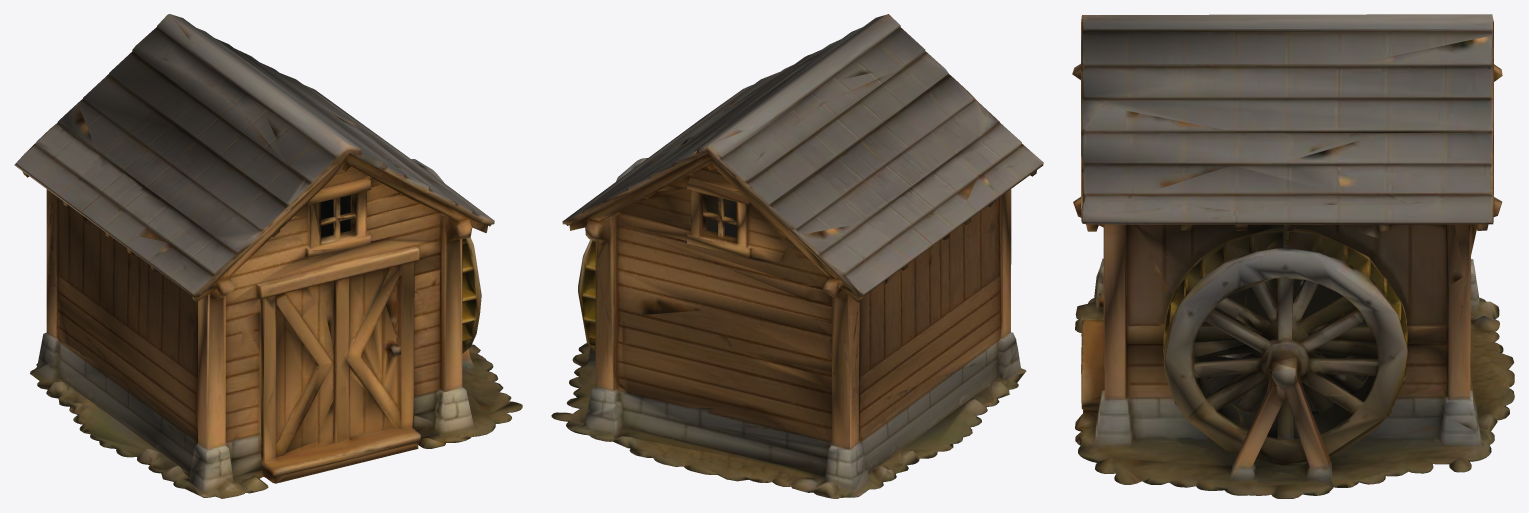
Rendered from waterwheel_sawmill.glb.
3 views of the same model, side by side, from view 1: azimuth 30°, elevation 25°; view 2: azimuth 150°, elevation 25°; view 3: azimuth 270°, elevation 25° (orthographic). The views are drawn at different scales.
Visible parts, largest first — view 1: node_0; view 2: node_0; view 3: node_0.
Boxes of the visible parts, left/top/right/bottom form: node_0: left=14, top=14, right=522, bottom=498; node_0: left=551, top=14, right=1043, bottom=498; node_0: left=1072, top=14, right=1514, bottom=498.
Bounding box in the file's own units: 0.8362 × 0.6686 × 0.7366.
1 material, 1 textured.
